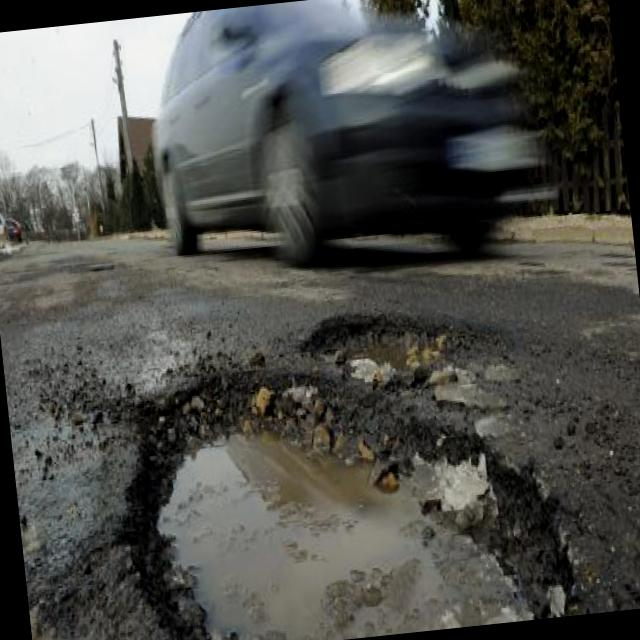Lubang: (124, 361, 572, 640), (300, 313, 518, 404)
